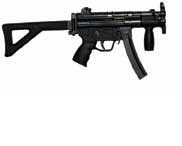rifle: (4, 1, 170, 93)
